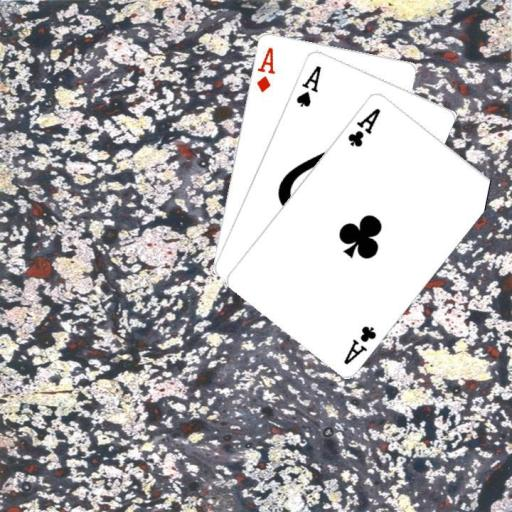AC: (344, 105, 383, 149), (340, 322, 378, 366)
AD: (253, 44, 277, 94)
AS: (293, 62, 323, 108)
